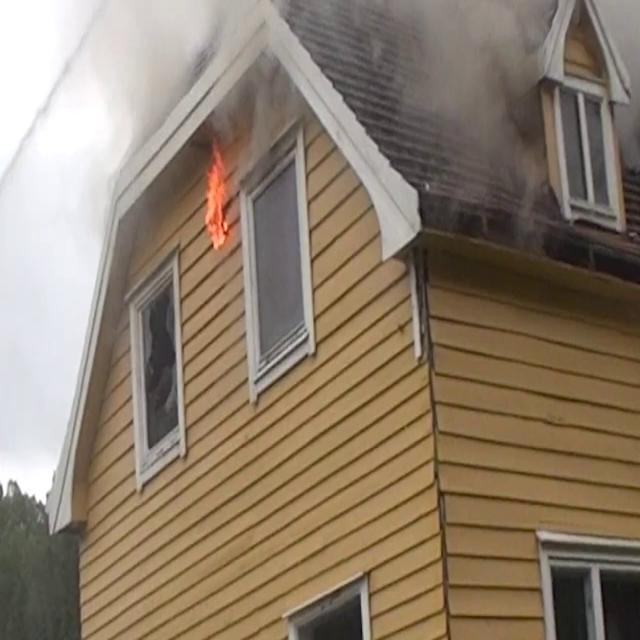Fire: (200, 136, 233, 248)
Smoke: (2, 0, 290, 204), (373, 1, 557, 266)
